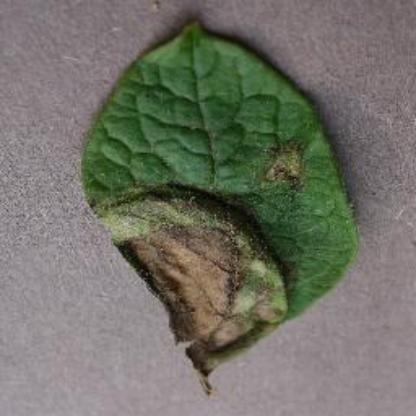Late-Blight: (68, 11, 374, 395)
